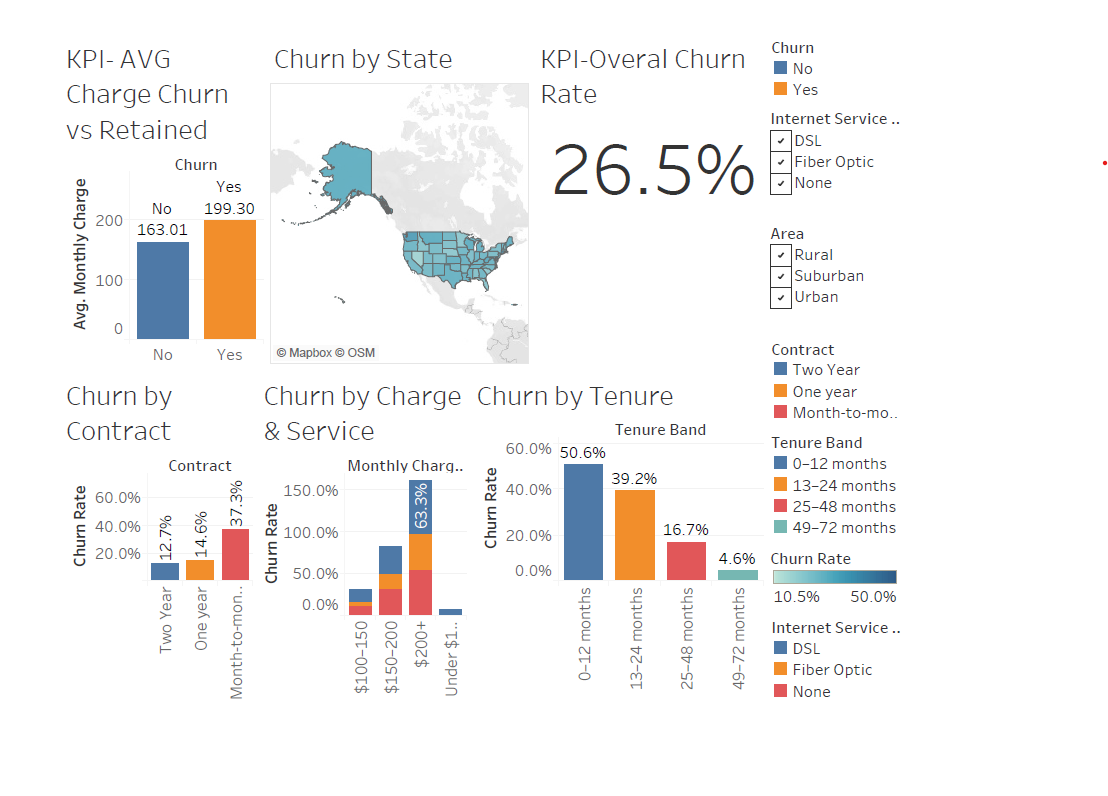

This screenshot's page, from the dashboard's own definition file:
{"tool":"tableau","page":{"name":"Churn Interactive Dashboard","canvas":[1000,800],"ordinal":0},"visuals":[{"type":"worksheet","title":"KPI- AVG Charge Churn vs Retained","mark":"Bar","rows":["MonthlyCharge"],"cols":["Churn"],"box":[8,8,242,392]},{"type":"worksheet","title":"Churn by State","mark":"Multipolygon","box":[250,8,310,392]},{"type":"worksheet","title":"KPI-Overal Churn Rate","mark":"Text","box":[560,8,272,392]},{"type":"legend","title":"KPI- AVG Charge Churn vs Retained","param":"[federated.0mdglv8151aca711qs0b4052sedm].[none:Churn:nk]","box":[832,8,160,84]},{"type":"filter","title":"Churn by Contract","param":"[federated.0mdglv8151aca711qs0b4052sedm].[none:Calculation_2503331735121928:nk]","box":[832,92,160,133.7]},{"type":"filter","title":"Churn by Contract","param":"[federated.0mdglv8151aca711qs0b4052sedm].[none:Area:nk]","box":[832,225.7,160,133.7]},{"type":"legend","title":"Churn by Contract","param":"[federated.0mdglv8151aca711qs0b4052sedm].[none:Contract:nk]","box":[832,359.3,160,109]},{"type":"worksheet","title":"Churn by Contract","mark":"Bar","rows":["Calculation_2503331733774341"],"cols":["Contract"],"box":[8,400,230,392]},{"type":"worksheet","title":"Churn by Charge & Service","mark":"Automatic","rows":["Calculation_2503331733774341"],"cols":["Calculation_2503331734781959"],"box":[238,400,248,392]},{"type":"worksheet","title":"Churn by Tenure","mark":"Bar","rows":["Calculation_2503331733774341"],"cols":["Calculation_2503331734564870"],"box":[486,400,346,392]},{"type":"legend","title":"Churn by Tenure","param":"[federated.0mdglv8151aca711qs0b4052sedm].[none:Calculation_2503331734564870:nk]","box":[832,468.3,160,133.7]},{"type":"legend","title":"Churn by State","param":"[federated.0mdglv8151aca711qs0b4052sedm].[usr:Calculation_2503331733774341:qk]","box":[832,602,160,81]},{"type":"legend","title":"Churn by Charge & Service","param":"[federated.0mdglv8151aca711qs0b4052sedm].[none:Calculation_2503331735121928:nk]","box":[832,683,160,109]}]}

Visuals, with their boxes on the page's 1000x800 design canvas (x1, y1, x2, y2). These are canvas units, not pixel positions in the 1108x796 screenshot, which may show the page scaled, cropped or inside an application window:
"KPI- AVG Charge Churn vs Retained" worksheet (Bar marks): pyautogui.locateOnScreen(8, 8, 250, 400)
"Churn by State" worksheet (Multipolygon marks): pyautogui.locateOnScreen(250, 8, 560, 400)
"KPI-Overal Churn Rate" worksheet (Text marks): pyautogui.locateOnScreen(560, 8, 832, 400)
"KPI- AVG Charge Churn vs Retained" legend: pyautogui.locateOnScreen(832, 8, 992, 92)
"Churn by Contract" filter: pyautogui.locateOnScreen(832, 92, 992, 226)
"Churn by Contract" filter: pyautogui.locateOnScreen(832, 226, 992, 359)
"Churn by Contract" legend: pyautogui.locateOnScreen(832, 359, 992, 468)
"Churn by Contract" worksheet (Bar marks): pyautogui.locateOnScreen(8, 400, 238, 792)
"Churn by Charge & Service" worksheet: pyautogui.locateOnScreen(238, 400, 486, 792)
"Churn by Tenure" worksheet (Bar marks): pyautogui.locateOnScreen(486, 400, 832, 792)
"Churn by Tenure" legend: pyautogui.locateOnScreen(832, 468, 992, 602)
"Churn by State" legend: pyautogui.locateOnScreen(832, 602, 992, 683)
"Churn by Charge & Service" legend: pyautogui.locateOnScreen(832, 683, 992, 792)
